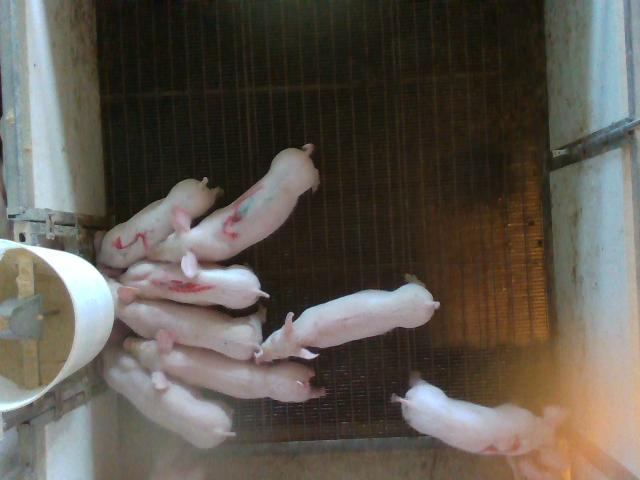pig-1: (118, 260, 269, 308)
pig-2: (391, 378, 570, 471)
pig-3: (148, 144, 319, 277)
pig-5: (99, 178, 221, 269)
